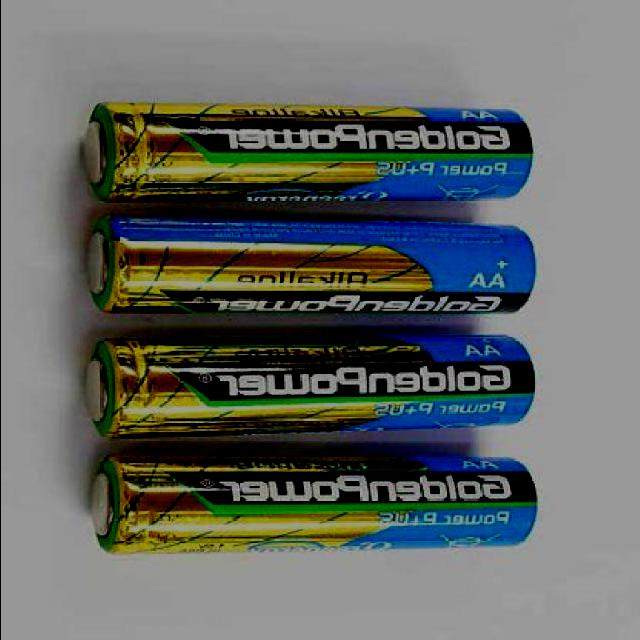AA: (77, 330, 534, 448), (70, 97, 536, 206), (72, 214, 537, 318), (73, 452, 544, 554)
